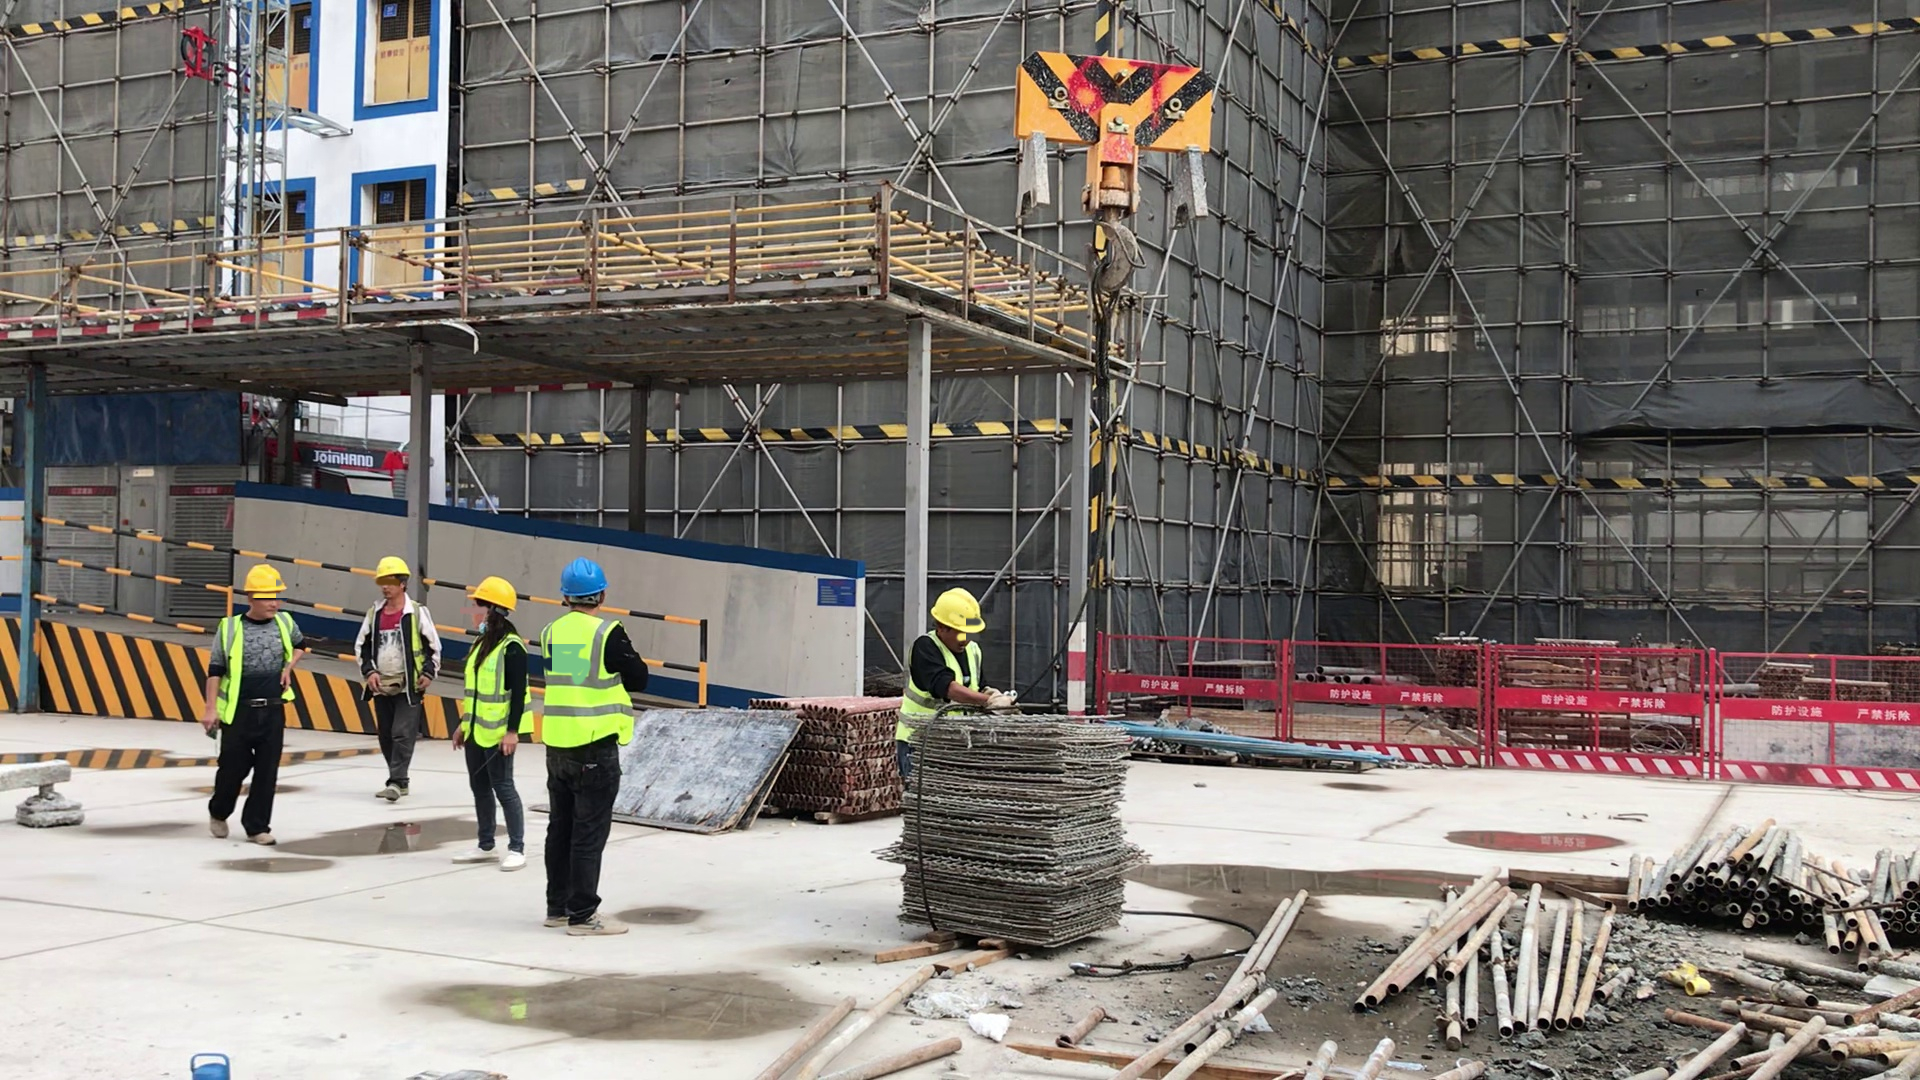fence: (1093, 614, 1914, 828), (20, 488, 674, 745)
helmet: (927, 586, 993, 650), (455, 570, 520, 627), (554, 552, 612, 600), (238, 559, 306, 595), (377, 549, 426, 580)
hook: (1001, 23, 1263, 261)
person: (547, 561, 650, 949), (204, 549, 306, 849), (454, 570, 532, 876), (354, 559, 439, 808), (908, 592, 1013, 758)
scaffold: (1351, 879, 1617, 1037), (1614, 820, 1920, 943), (750, 684, 915, 831)
vest: (543, 607, 639, 757), (890, 626, 994, 757), (215, 609, 308, 730), (458, 625, 532, 756), (356, 585, 438, 701)
